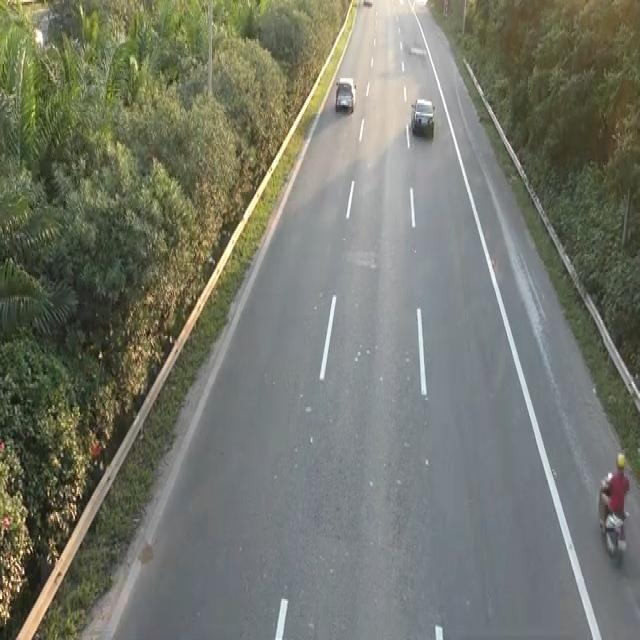bus: (409, 94, 436, 137), (333, 74, 356, 114)
minibus: (597, 473, 630, 567)
